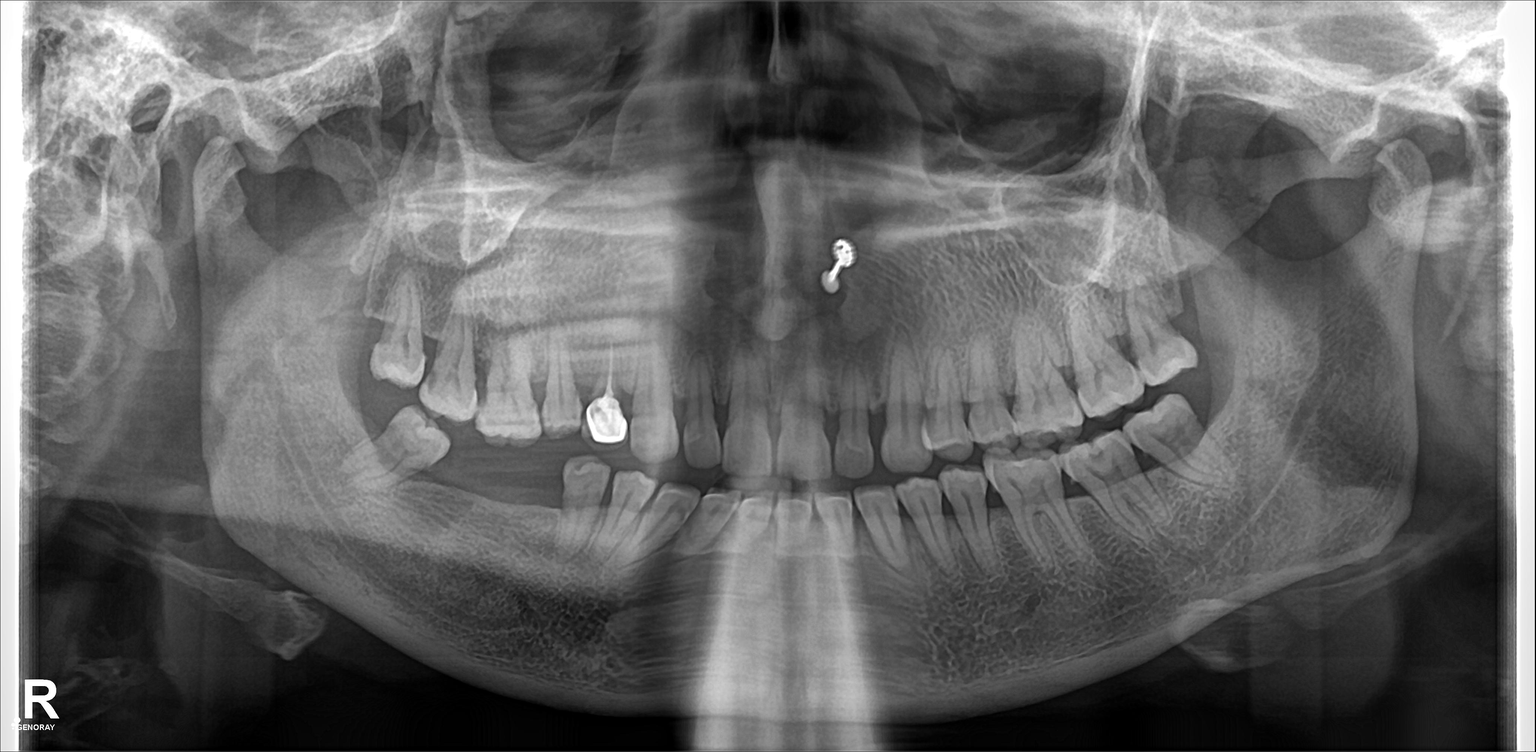Endodontically Treated Tooth: (588, 357, 624, 436)
Impacted Third Molar: (343, 434, 441, 478)
Missing Tooth: (521, 454, 559, 535), (447, 445, 481, 535), (335, 300, 372, 372), (492, 447, 521, 532)
